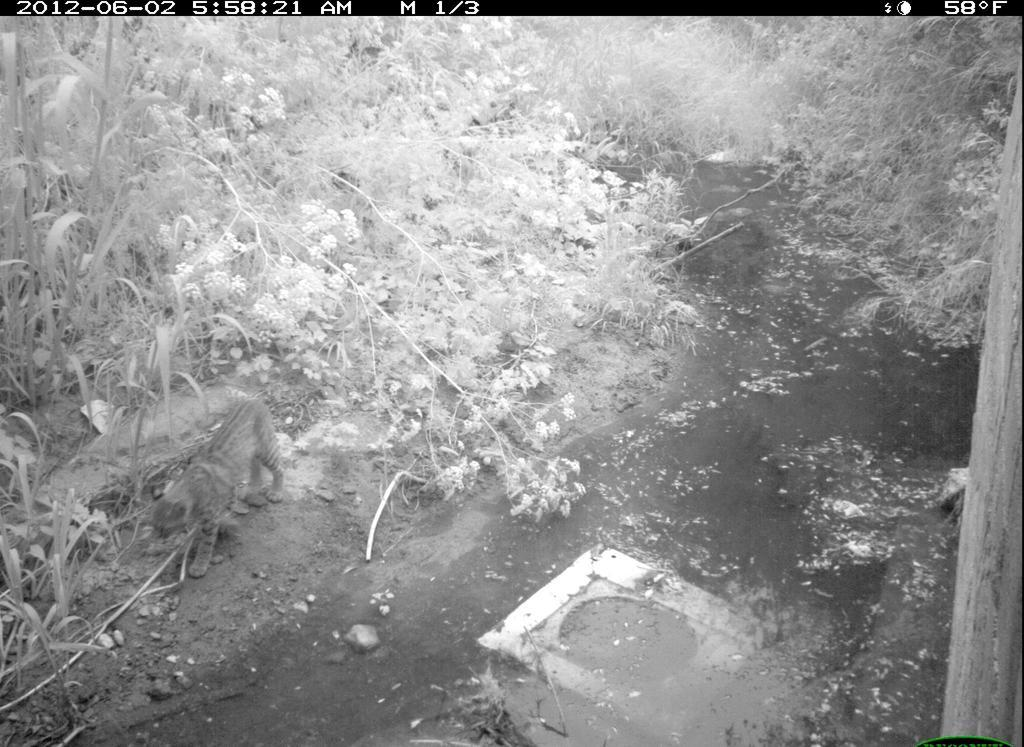bobcat: (154, 393, 291, 580)
